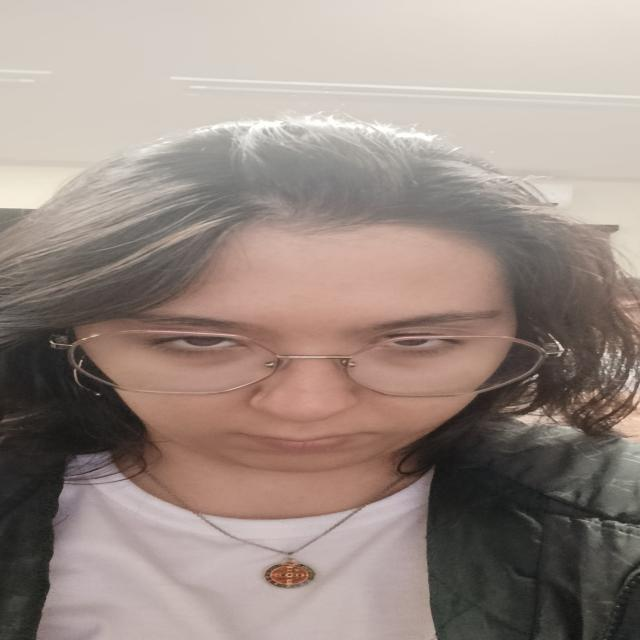sem_oculos: (59, 330, 563, 397)
